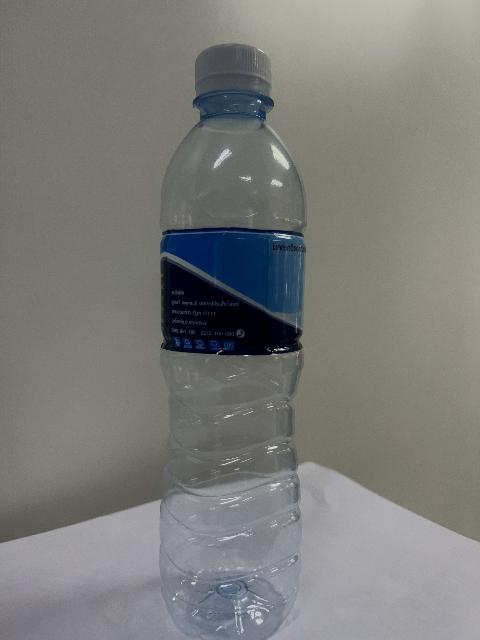bottle: (160, 45, 304, 639)
